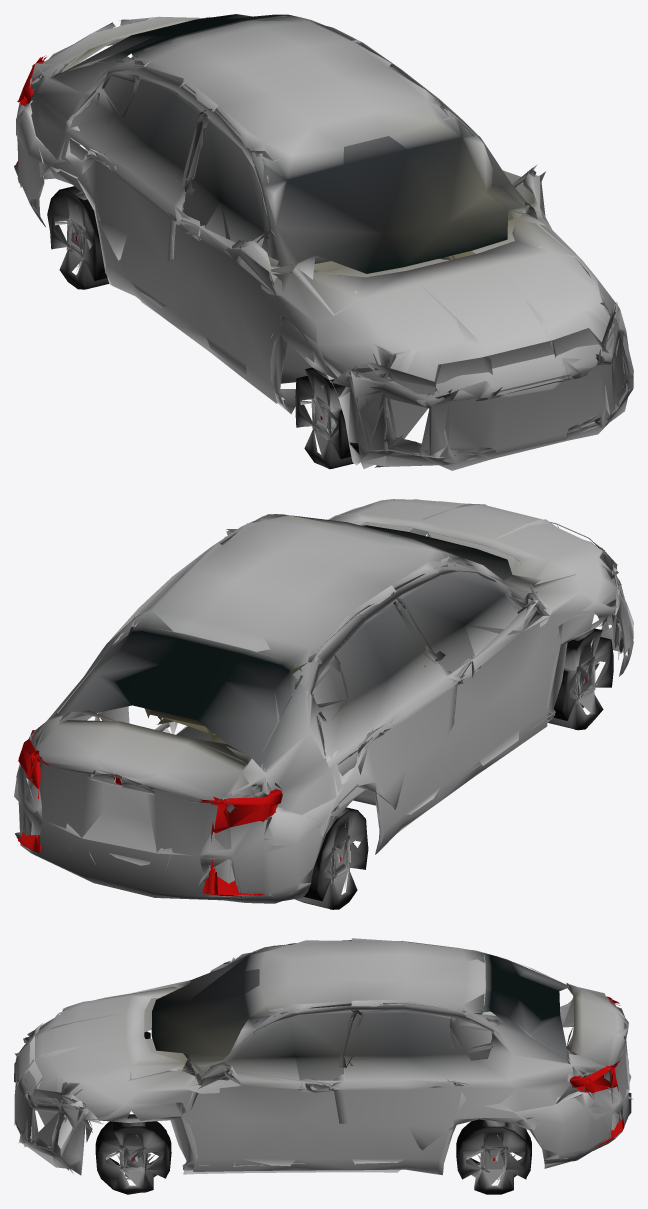
Rendered from egea_lo.glb.
3 views of the same model, one above another, from view 1: azimuth 30°, elevation 25°; view 2: azimuth 150°, elevation 25°; view 3: azimuth 270°, elevation 25° (orthographic). The views are drawn at different scales.
Visible parts, largest first — view 1: body_q, wRR_q, wFR_q; view 2: body_q, wFR_q, wRR_q; view 3: body_q, wFL_q, wRL_q.
Part boxes in pixels (box(x1,y1,x2,y2)): body_q: box(14, 14, 633, 470); wRR_q: box(47, 186, 108, 289); wFR_q: box(295, 367, 359, 469); body_q: box(14, 499, 633, 903); wFR_q: box(548, 628, 613, 730); wRR_q: box(295, 807, 368, 909); body_q: box(14, 938, 633, 1175); wFL_q: box(95, 1114, 171, 1194); wRL_q: box(456, 1119, 531, 1194).
Size of the model in its own units: 1.98 by 1.42 by 4.5.
